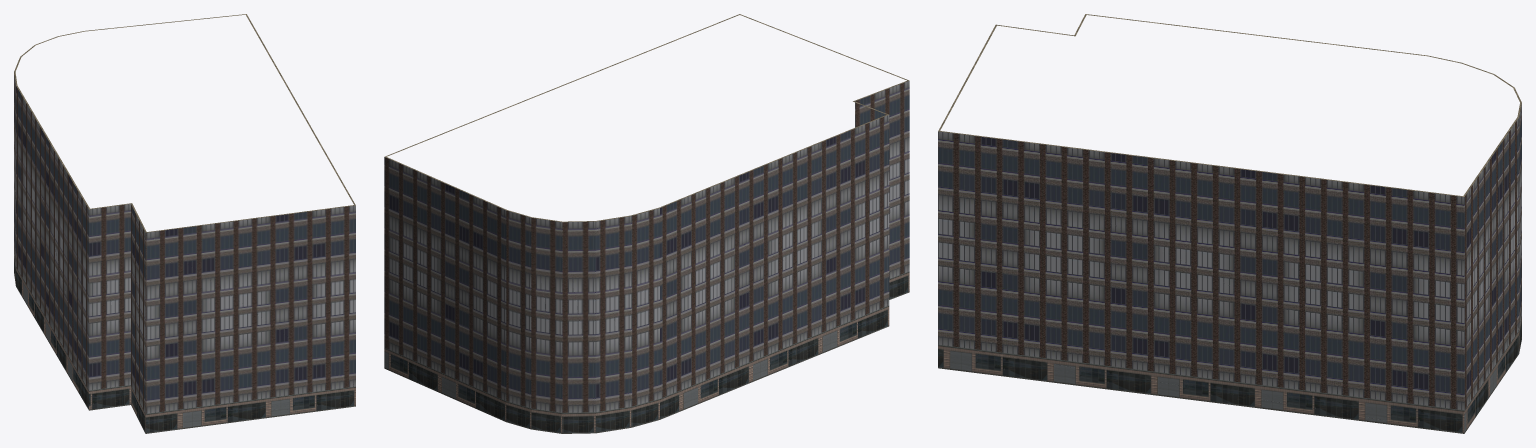
3 renders of one model, left to right at view 1: azimuth 30°, elevation 25°; view 2: azimuth 150°, elevation 25°; view 3: azimuth 270°, elevation 25°, orthographic. The views are drawn at different scales.
Parts seen in each view (by area): view 1: Facade020A, PanelArcade, ConcreteRoof; view 2: Facade020A, PanelArcade, ConcreteRoof; view 3: Facade020A, PanelArcade, ConcreteRoof.
Boxes of the visible parts, x1,y1,x2,y2 form: Facade020A: (14, 73, 355, 413); PanelArcade: (14, 254, 355, 433); ConcreteRoof: (14, 14, 355, 232); Facade020A: (384, 81, 909, 412); PanelArcade: (384, 271, 909, 433); ConcreteRoof: (384, 14, 909, 222); Facade020A: (938, 103, 1521, 410); PanelArcade: (938, 317, 1521, 433); ConcreteRoof: (938, 14, 1521, 196).
Size of the model in its own units: 58.04 by 35.01 by 78.19.
Materials: 3 (3 with a texture image).
